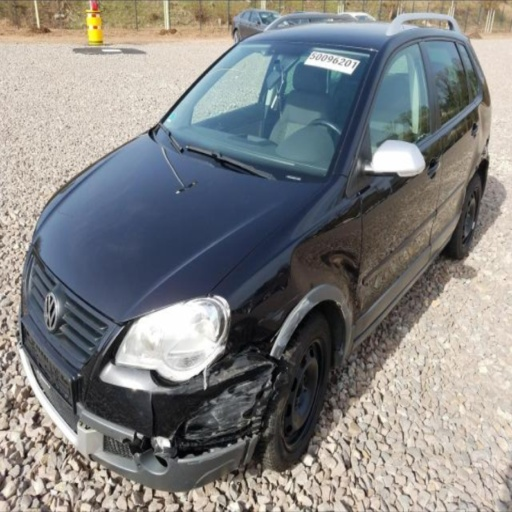dent: (289, 234, 361, 328), (237, 265, 289, 315), (228, 319, 278, 356), (469, 104, 489, 180)
scratch: (169, 376, 277, 450), (271, 298, 318, 347), (192, 457, 239, 489), (260, 292, 305, 323), (334, 213, 361, 227), (365, 197, 385, 214), (335, 301, 345, 321), (263, 291, 271, 301), (246, 305, 253, 314), (280, 285, 286, 290)
